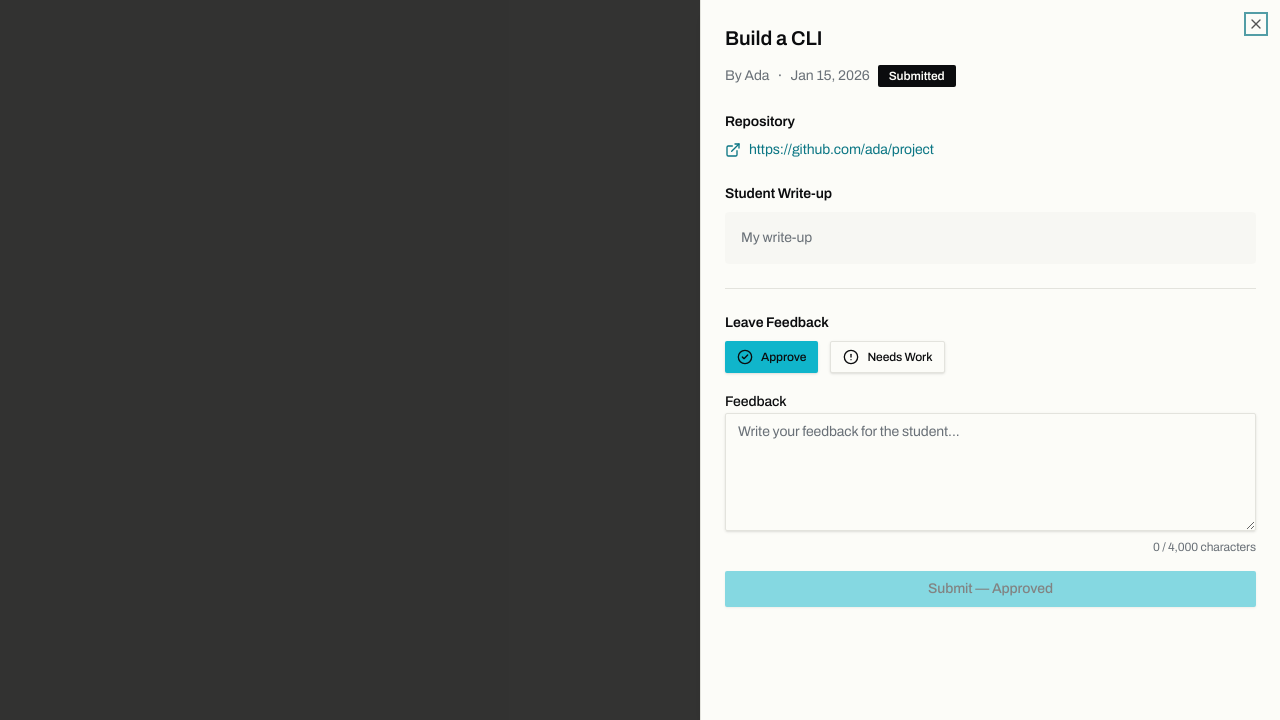
Test: ReviewSheet › counts the feedback characters without the spaces around them
Expected: the text "0 / 4,000 characters" is shown, left=1153, top=540, right=1256, bottom=554
In the text box with placeholder "Write your feedback for the student...": (990, 472) left=725, top=413, right=1256, bottom=531, type "  Good  "
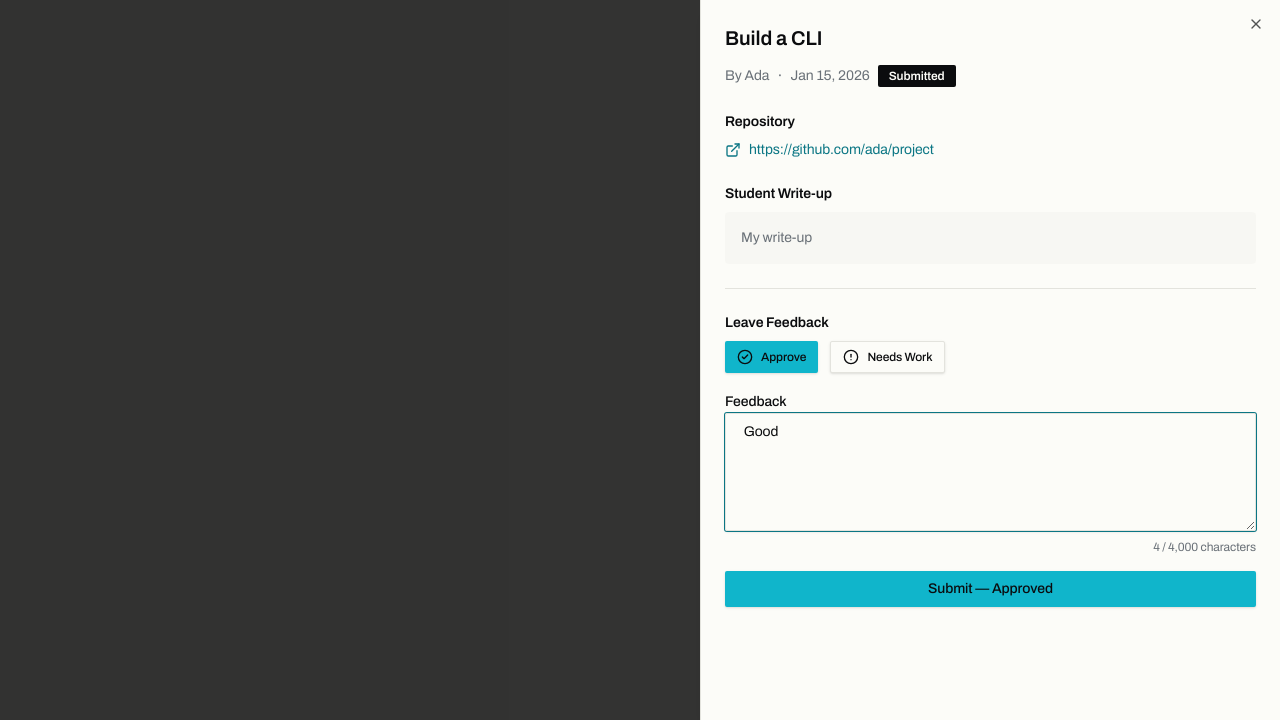
Result: the text "4 / 4,000 characters" is shown at left=1153, top=540, right=1256, bottom=554
